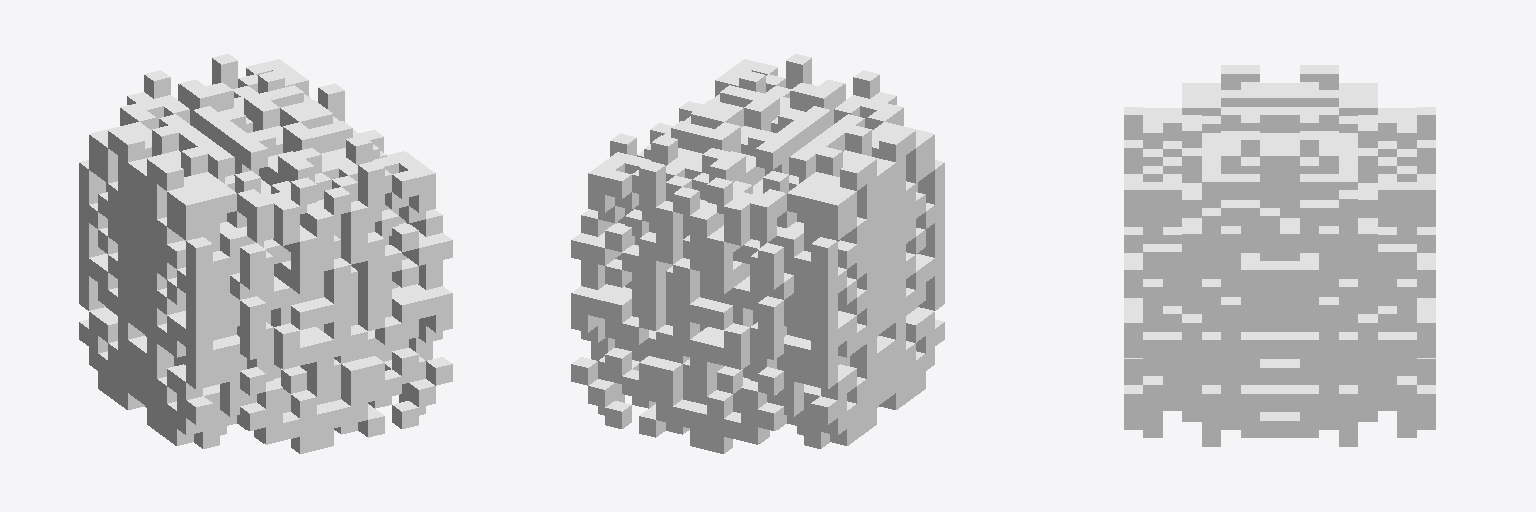
The model's file is Foliage_Set-3.obj.
3 views of the same model, side by side, from view 1: azimuth 30°, elevation 25°; view 2: azimuth 150°, elevation 25°; view 3: azimuth 270°, elevation 25° (orthographic).
Parts seen in each view (by area): view 1: object 1; view 2: object 1; view 3: object 1.
Boxes of the visible parts, box(x1,y1,x2,y2) form: object 1: box(79, 54, 452, 453); object 1: box(571, 54, 944, 453); object 1: box(1124, 65, 1435, 446).
Size of the model in its own units: 1.4 by 1.5 by 1.6.